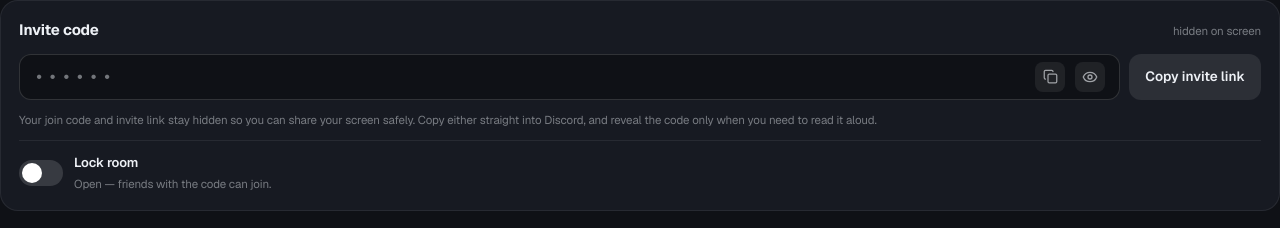
RoomInvitePanel — stream safety › falls back to revealing the code when the clipboard is refused
Click the button named "Copy code" at [1050, 76], box [1035,62,1065,92]
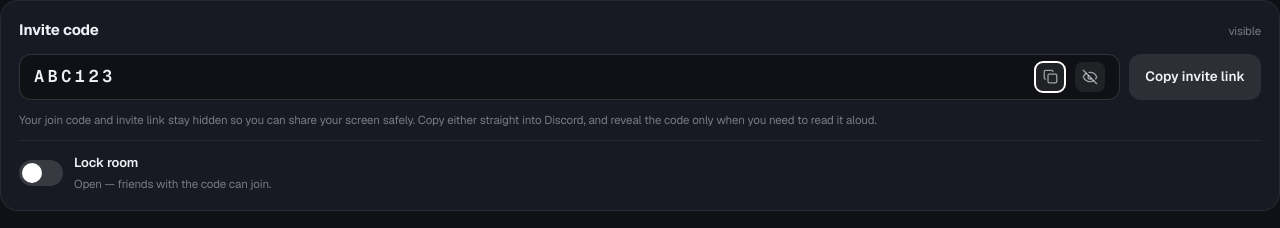
Expected: the text with test id "join-code" reads "ABC123", [34,65,116,87]
